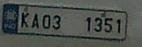0: (39, 12, 51, 29)
1: (113, 16, 123, 35), (83, 15, 91, 32)
3: (92, 16, 102, 33), (50, 14, 61, 29)
5: (101, 16, 114, 33)
A: (30, 12, 39, 28)
K: (18, 10, 29, 28)
